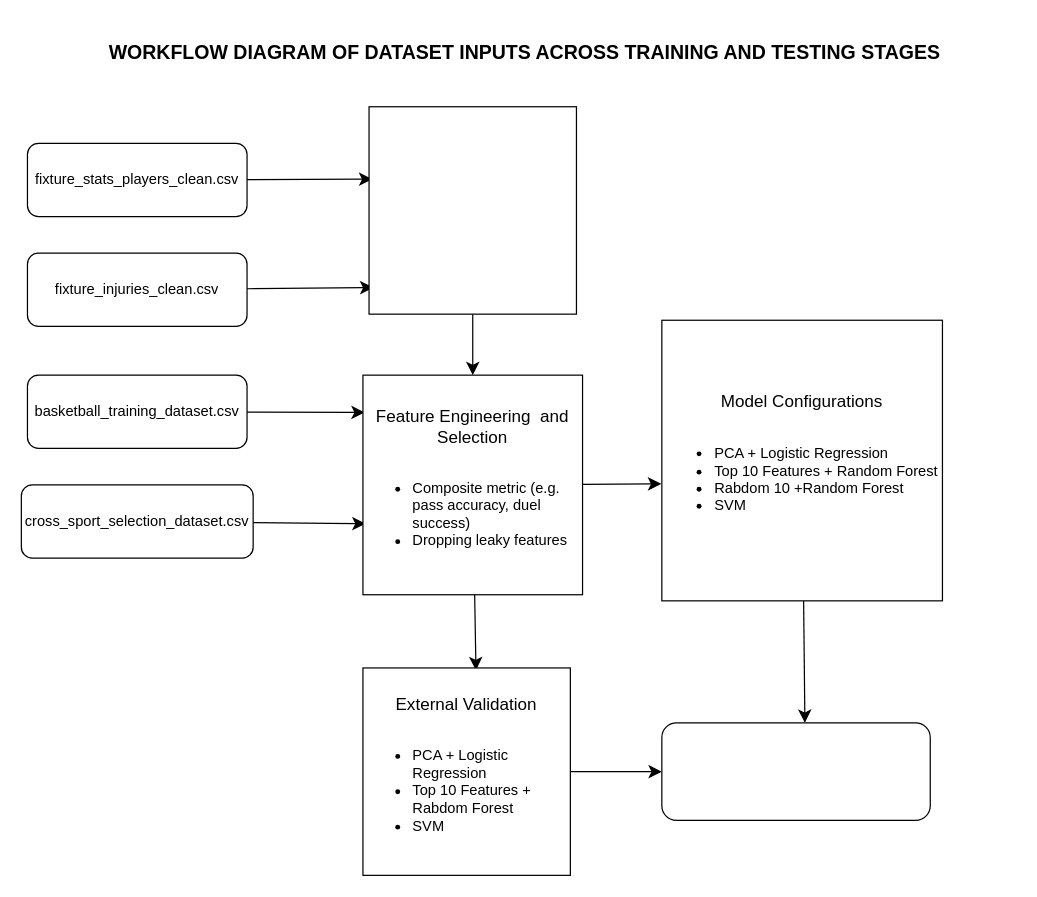
The diagram is 1037 pixels wide and 897 high, and some of its shapes have lost their labels. Here are the shapes that lost their labels. From the top down, the centre of each, then its label:
At pixel 472 210: "Data Preparation Cleaning, filtering, and merging Handling missing values".
At pixel 795 771: "basketball_training_dataset.csv cross_sport_selection_dataset.csv".
